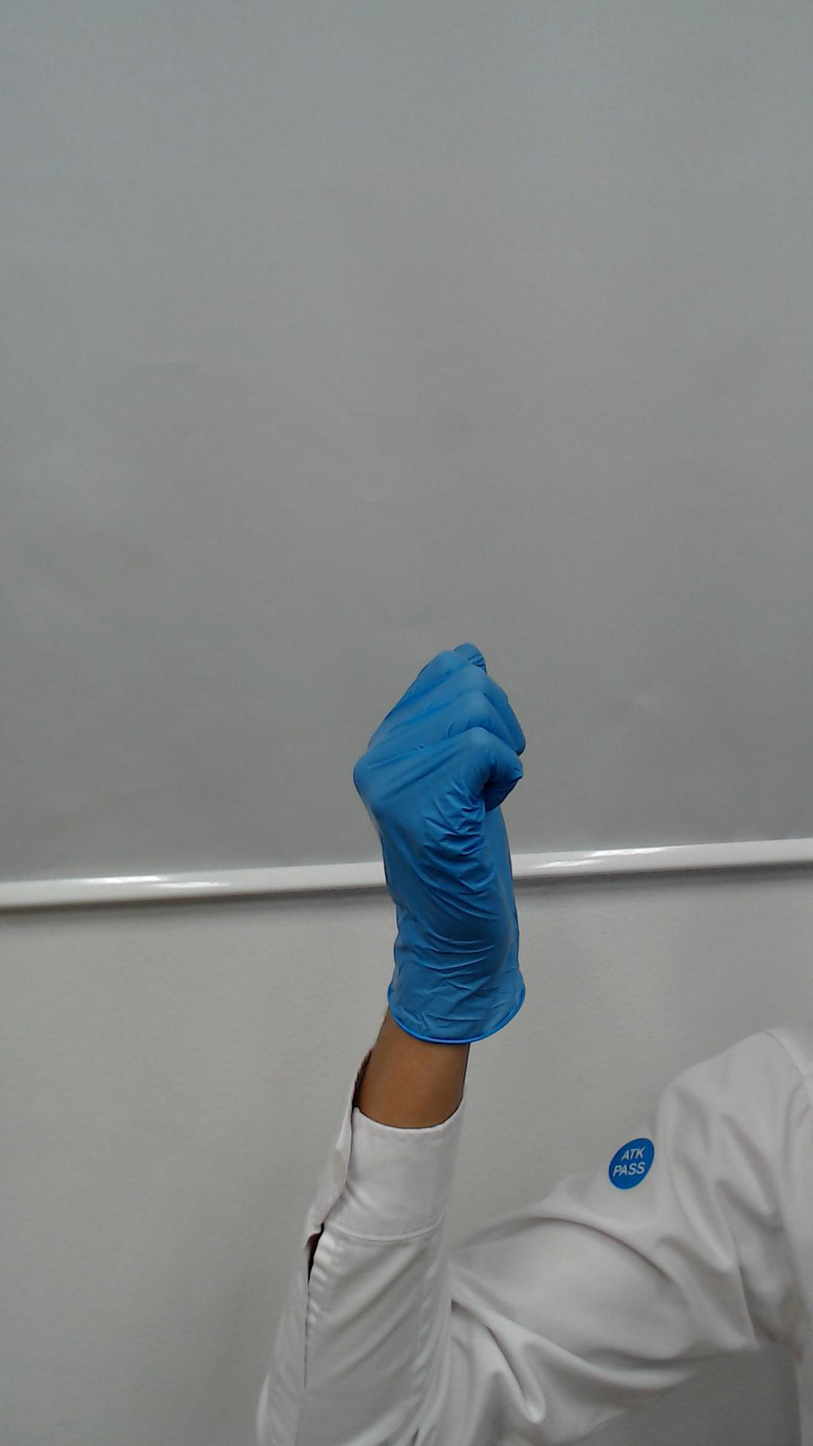gloves: (325, 611, 556, 941)
